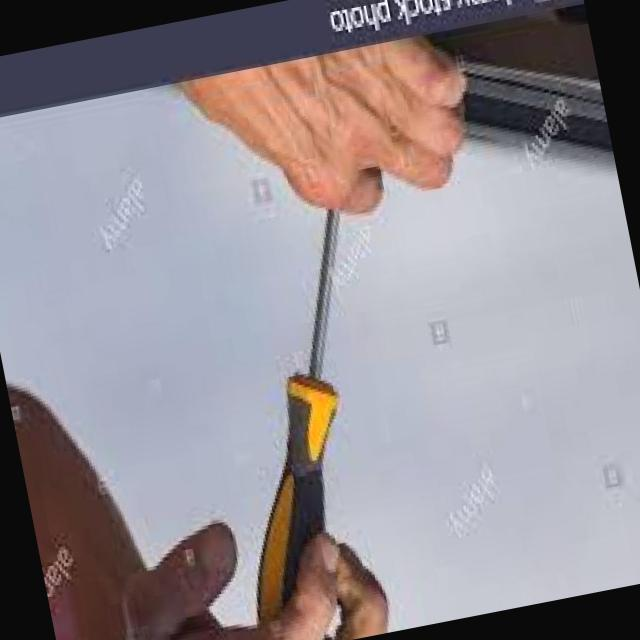screwdriver: (257, 211, 340, 623)
